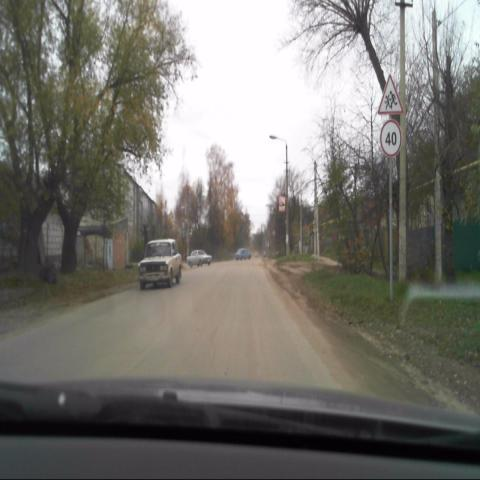1_23: (375, 74, 403, 115)
